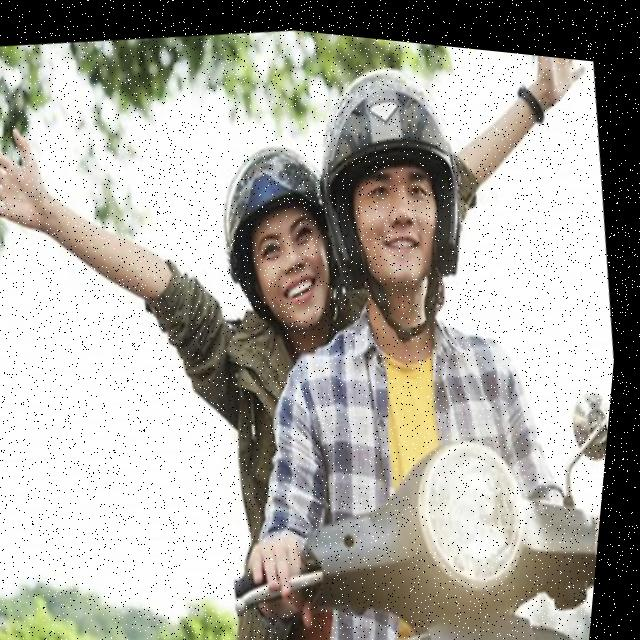helmet: (290, 35, 499, 359), (202, 119, 366, 346)
